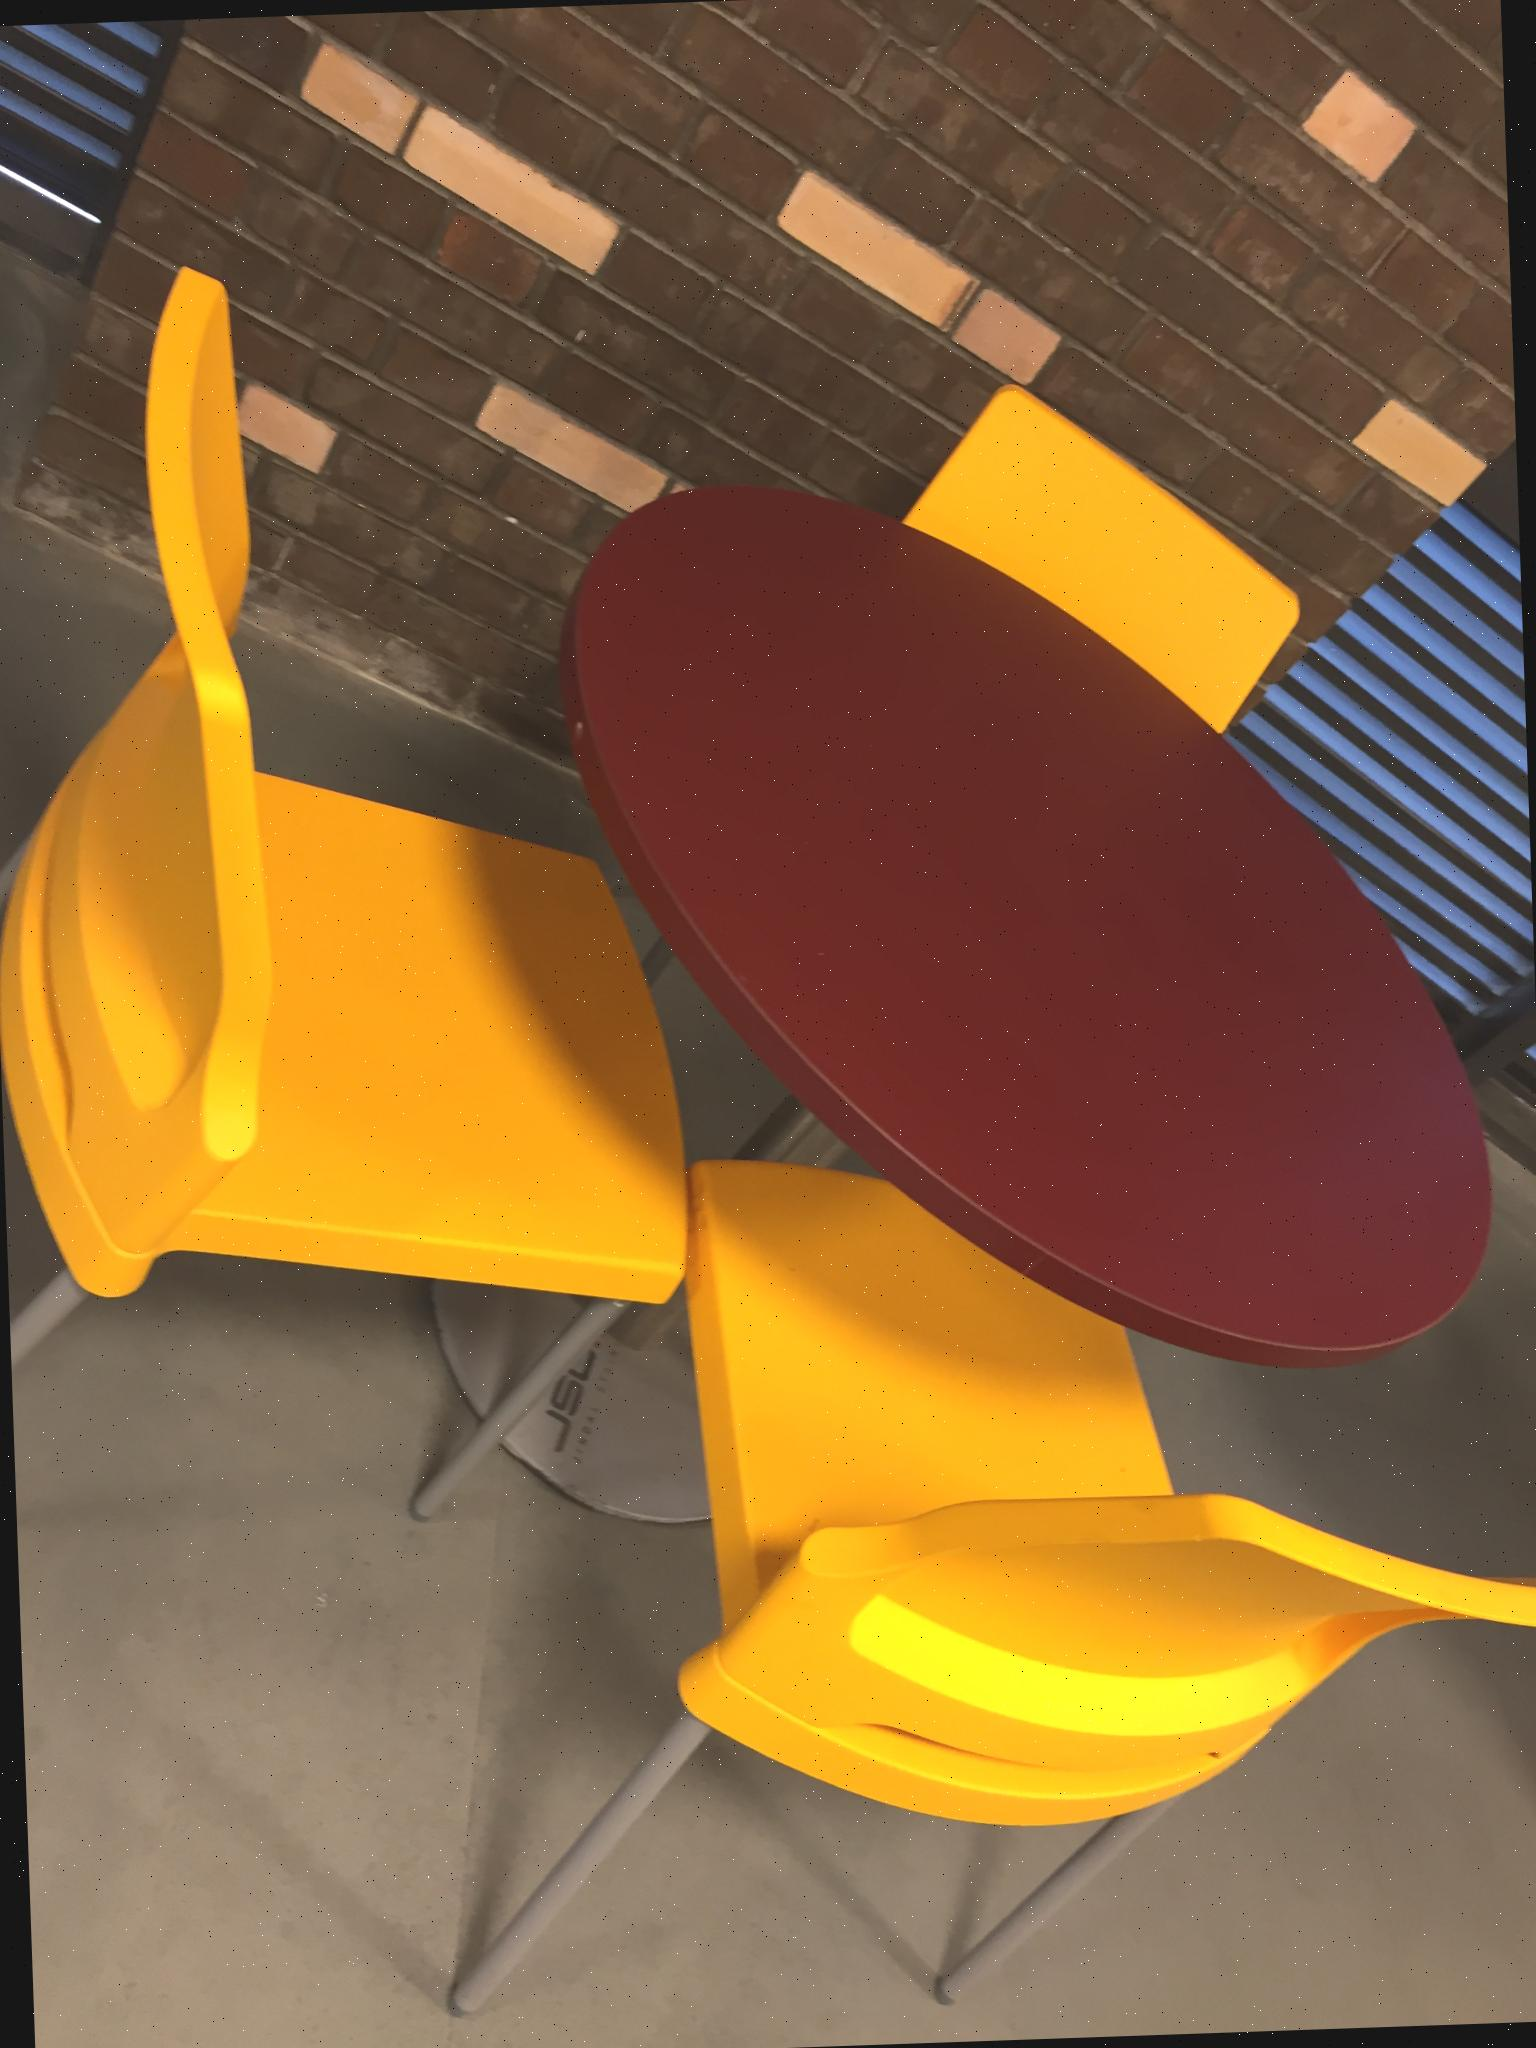chair: (394, 1092, 1536, 2048), (0, 247, 703, 1545), (837, 334, 1310, 839)
